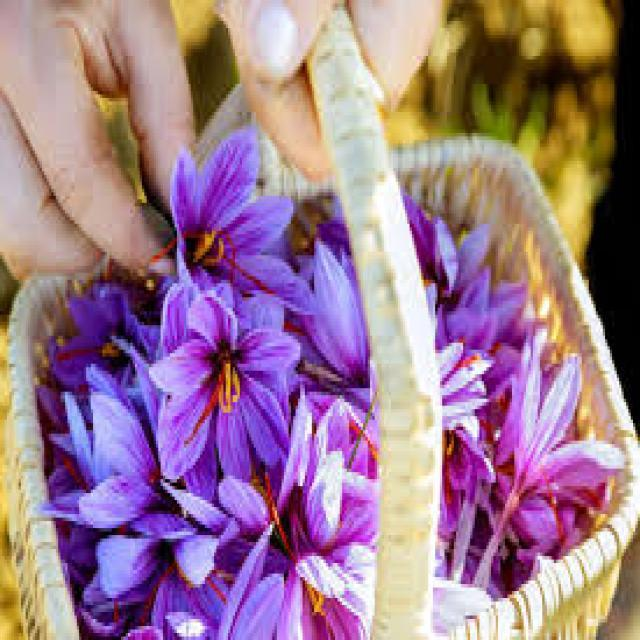Flower: (148, 288, 306, 454), (169, 127, 296, 308), (85, 388, 216, 516), (266, 516, 384, 640)
stigma: (264, 476, 295, 562)
